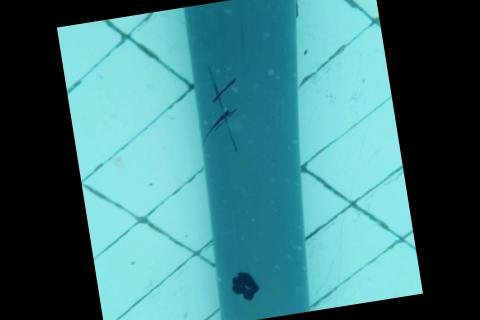kebocoran: (228, 265, 263, 302)
keretakan: (192, 61, 248, 155)
